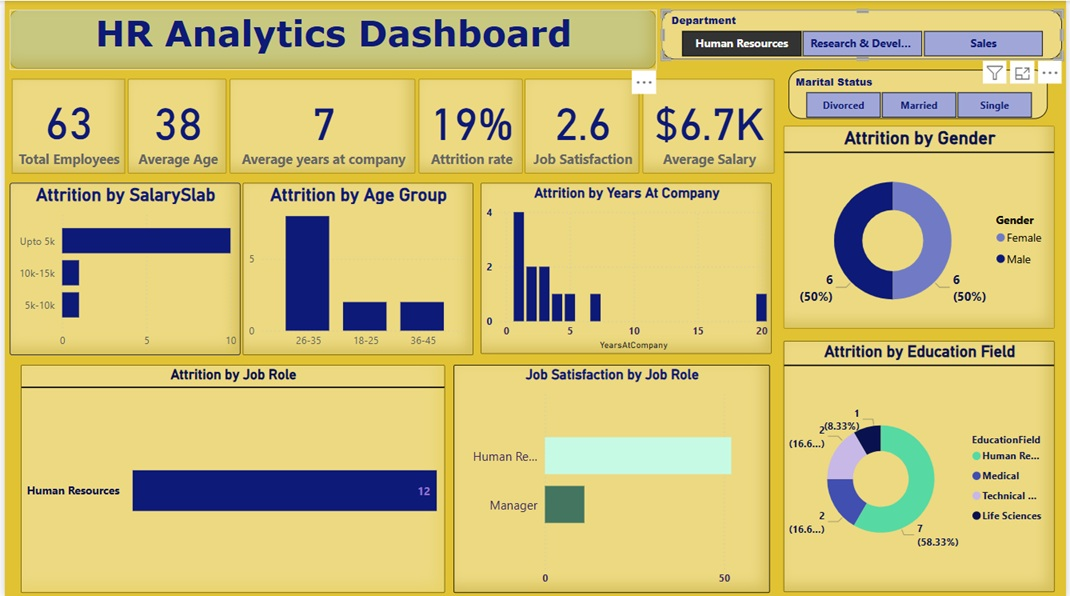

What the dashboard file says about the page in this screenshot:
{"tool":"powerbi","page":{"name":"Page 1","canvas":[1280,720],"ordinal":0},"visuals":[{"type":"card","fields":{"Values":["HR_Analytics.No. of employees"]},"box":[7.9,93.8,136.7,114.4],"z":0},{"type":"card","fields":{"Values":["HR_Analytics.Attrition rate"]},"box":[499.1,93.8,125.6,114.4],"z":1000},{"type":"card","fields":{"Values":["HR_Analytics.Average Age"]},"box":[147.8,93.8,119.2,114.4],"z":2000},{"type":"card","fields":{"Values":["HR_Analytics.Average years at company"]},"box":[271.8,93.8,224.1,114.4],"z":3000},{"type":"donutChart","title":"Attrition by Gender","fields":{"Category":["HR_Analytics.Gender"],"Y":["HR_Analytics.No. of attrition"]},"box":[939.3,151,327.4,244.8],"z":4000},{"type":"slicer","title":"Department","fields":{"Values":["HR_Analytics.Department"]},"box":[793.1,11.1,483.2,60.4],"z":5000},{"type":"clusteredBarChart","title":"Attrition by SalarySlab","fields":{"Category":["HR_Analytics.SalarySlab"],"Y":["HR_Analytics.No. of attrition"]},"box":[6.4,219.3,278.1,208.2],"z":6000},{"type":"donutChart","title":"Attrition by Education Field","fields":{"Category":["HR_Analytics.EducationField"],"Y":["HR_Analytics.No. of attrition"]},"box":[939.3,410.1,327.4,303.6],"z":7000},{"type":"columnChart","title":"Attrition by Age Group","fields":{"Y":["HR_Analytics.No. of attrition"],"Category":["HR_Analytics.AgeGroup"]},"box":[287.7,219.3,278.1,208.2],"z":8000},{"type":"barChart","title":"Job Satisfaction by Job Role","fields":{"Category":["HR_Analytics.JobRole"],"Y":["CountNonNull(HR_Analytics.JobSatisfaction)"]},"box":[542,438.7,381.5,275],"z":9000},{"type":"clusteredColumnChart","title":"Attrition by Years At Company","fields":{"Category":["HR_Analytics.YearsAtCompany"],"Y":["HR_Analytics.No. of attrition"]},"box":[573.8,219.3,351.3,206.6],"z":10000},{"type":"funnel","title":"Attrition by Job Role","fields":{"Category":["HR_Analytics.JobRole"],"Y":["HR_Analytics.No. of attrition"]},"box":[19.1,438.7,511.8,275],"z":11000},{"type":"card","fields":{"Values":["HR_Analytics.Average Salary"]},"box":[769.3,93.8,158.9,114.4],"z":12000},{"type":"card","fields":{"Values":["HR_Analytics.Avg. Job Satisfaction"]},"box":[627.8,93.8,138.3,114.4],"z":13000},{"type":"slicer","title":"Marital Status","fields":{"Values":["HR_Analytics.MaritalStatus"]},"box":[945.7,82.6,313.1,58.8],"z":14000},{"type":"textbox","box":[6.4,11.1,780.4,71.5],"z":15000}]}

Visuals, with their boxes in screenshot pixels (x1, y1, x2, y2), scaled from the page's 1280x720 canvas onto the 1070x596 screenshot:
card - HR_Analytics.No. of employees: {"left": 7, "top": 78, "right": 121, "bottom": 172}
card - HR_Analytics.Attrition rate: {"left": 417, "top": 78, "right": 522, "bottom": 172}
card - HR_Analytics.Average Age: {"left": 124, "top": 78, "right": 223, "bottom": 172}
card - HR_Analytics.Average years at company: {"left": 227, "top": 78, "right": 415, "bottom": 172}
"Attrition by Gender" donutChart: {"left": 785, "top": 125, "right": 1059, "bottom": 328}
"Department" slicer: {"left": 663, "top": 9, "right": 1067, "bottom": 59}
"Attrition by SalarySlab" clusteredBarChart: {"left": 5, "top": 182, "right": 238, "bottom": 354}
"Attrition by Education Field" donutChart: {"left": 785, "top": 339, "right": 1059, "bottom": 591}
"Attrition by Age Group" columnChart: {"left": 240, "top": 182, "right": 473, "bottom": 354}
"Job Satisfaction by Job Role" barChart: {"left": 453, "top": 363, "right": 772, "bottom": 591}
"Attrition by Years At Company" clusteredColumnChart: {"left": 480, "top": 182, "right": 773, "bottom": 353}
"Attrition by Job Role" funnel: {"left": 16, "top": 363, "right": 444, "bottom": 591}
card - HR_Analytics.Average Salary: {"left": 643, "top": 78, "right": 776, "bottom": 172}
card - HR_Analytics.Avg. Job Satisfaction: {"left": 525, "top": 78, "right": 640, "bottom": 172}
"Marital Status" slicer: {"left": 791, "top": 68, "right": 1052, "bottom": 117}
textbox: {"left": 5, "top": 9, "right": 658, "bottom": 68}
